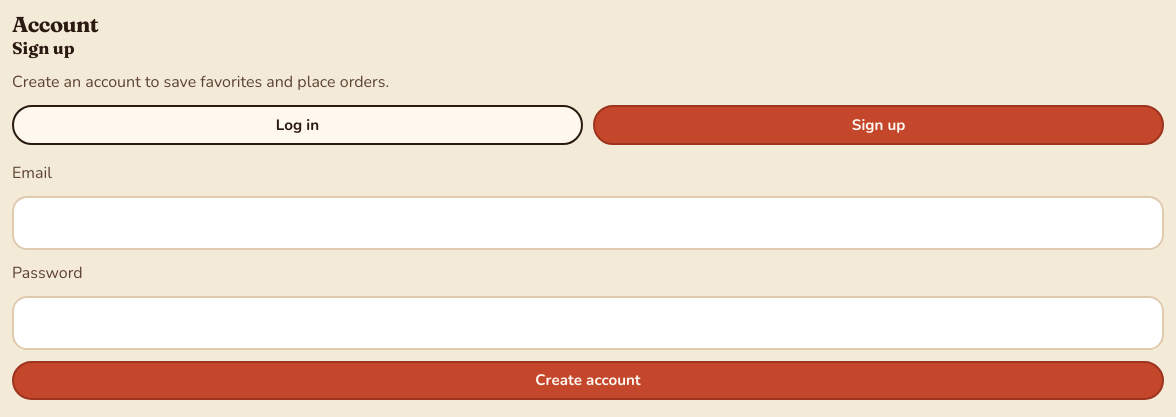
Test: AccountPanel › registers and then loads the profile
In the field labelled "Email": [588, 223] box [12, 196, 1164, 250], type "user@example.com"
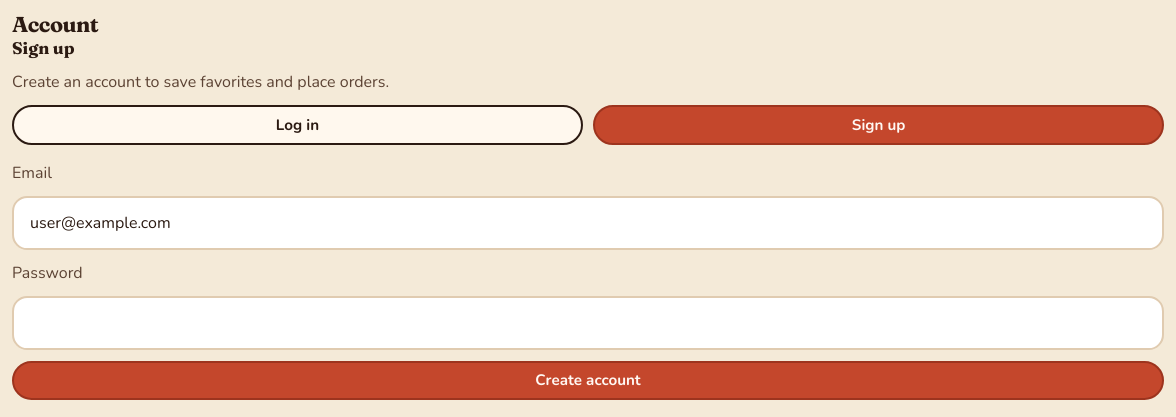
In the password field labelled "Password": [588, 323] box [12, 296, 1164, 350], type "password1"
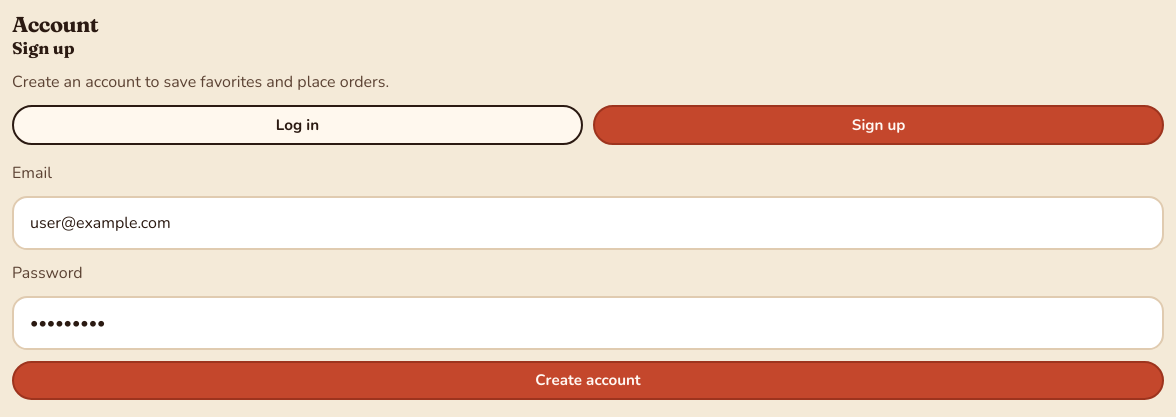
Click the button "Create account": [588, 381] box [12, 361, 1164, 400]
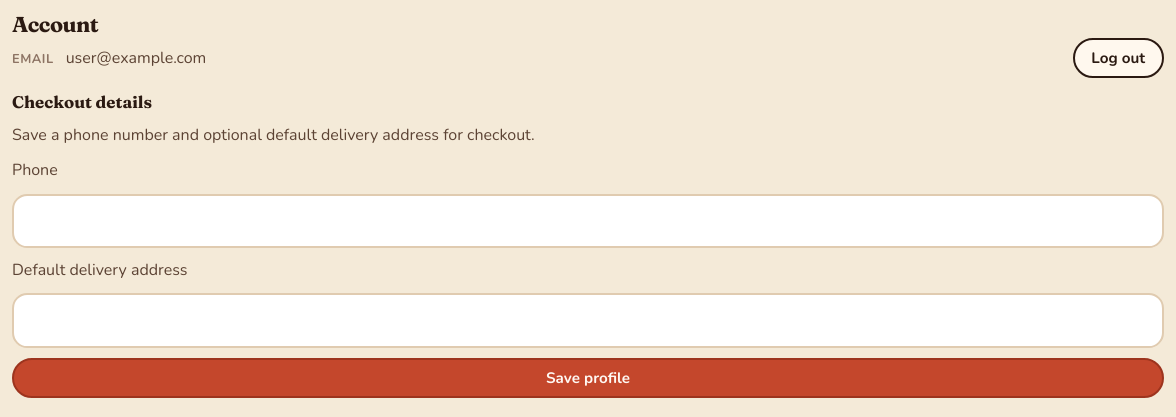
Now the text "user@example.com" is shown, box [66, 46, 206, 71]
